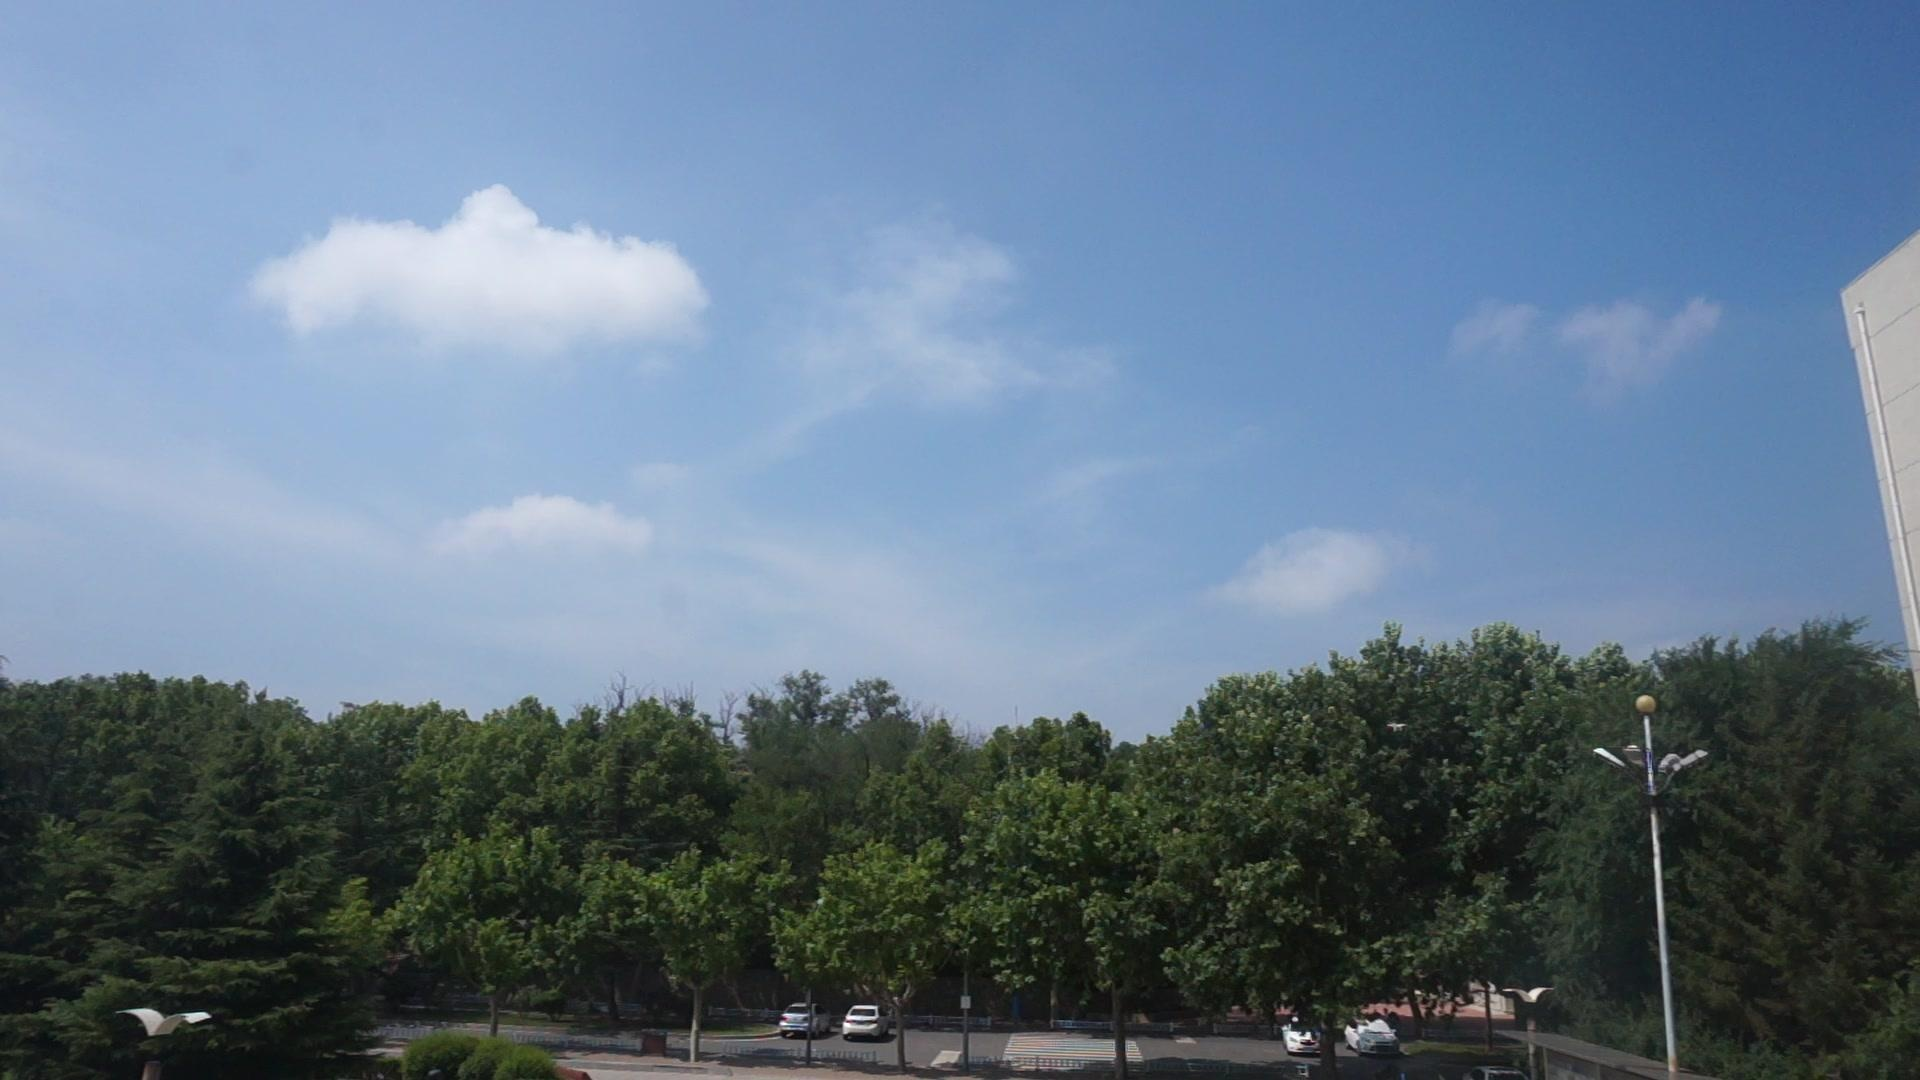UAV: (1389, 724, 1408, 733)
